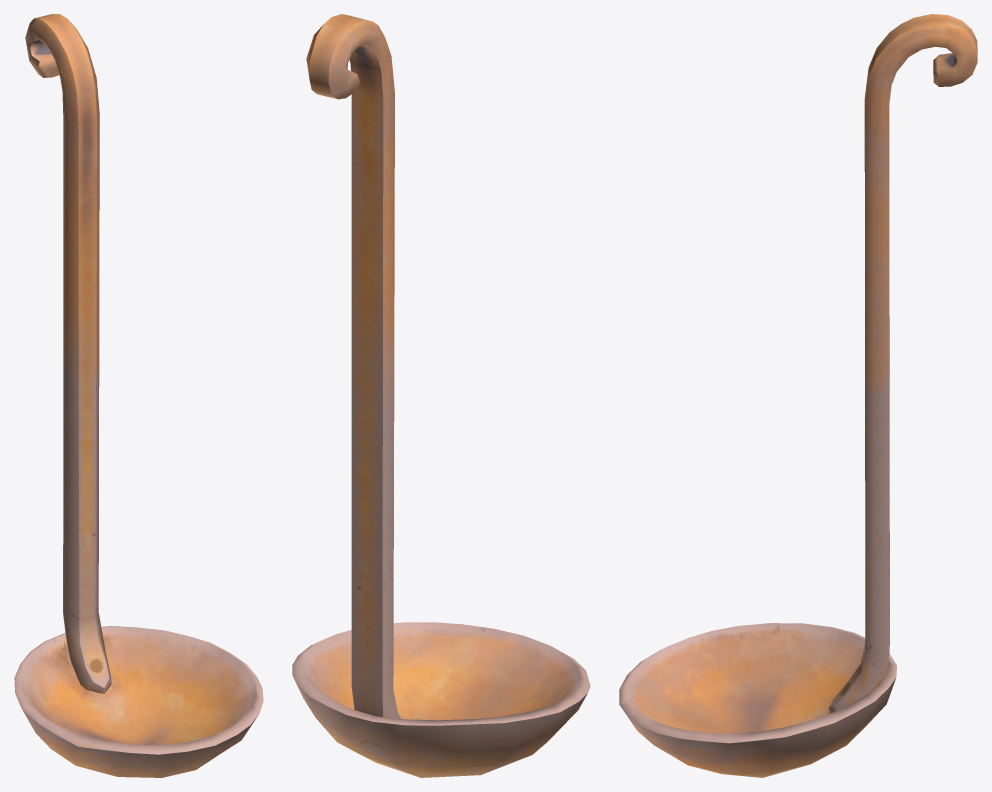
The model's file is SM_Potion_Props_Scoop_01.fbx.
The picture shows the model from 3 angles, left to right: view 1: azimuth 30°, elevation 25°; view 2: azimuth 150°, elevation 25°; view 3: azimuth 270°, elevation 25°; orthographic projection. The views are drawn at different scales.
Parts seen in each view (by area): view 1: SM_Potion_Props_Scoop_01_LOD0; view 2: SM_Potion_Props_Scoop_01_LOD0; view 3: SM_Potion_Props_Scoop_01_LOD0.
Boxes of the visible parts, x1,y1,x2,y2 form: SM_Potion_Props_Scoop_01_LOD0: (14, 14, 263, 777); SM_Potion_Props_Scoop_01_LOD0: (292, 14, 590, 777); SM_Potion_Props_Scoop_01_LOD0: (619, 14, 977, 777).
Size of what is drawn, in the model's own units: 17.97 by 54.22 by 23.74.
